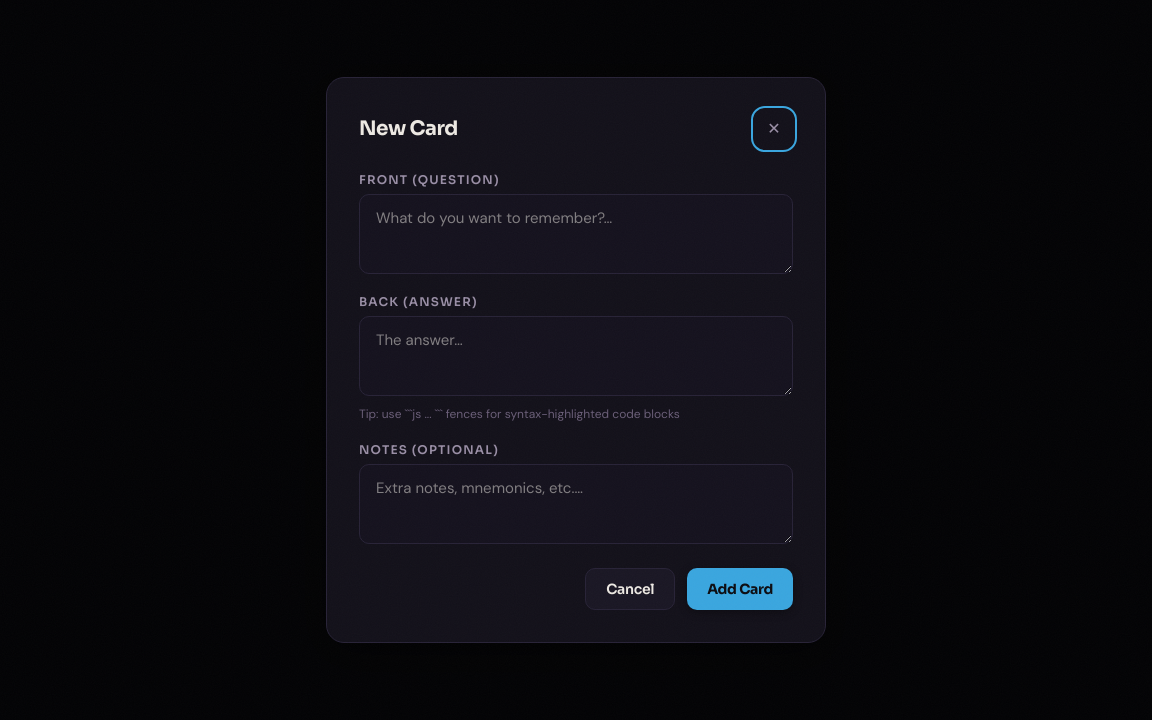
Test: CardModal › shows validation error when back is empty
The image size is (1152, 720).
Type "Q1" into the text box labelled "Front (Question)". click: (576, 234)
box: [359,194,793,274]
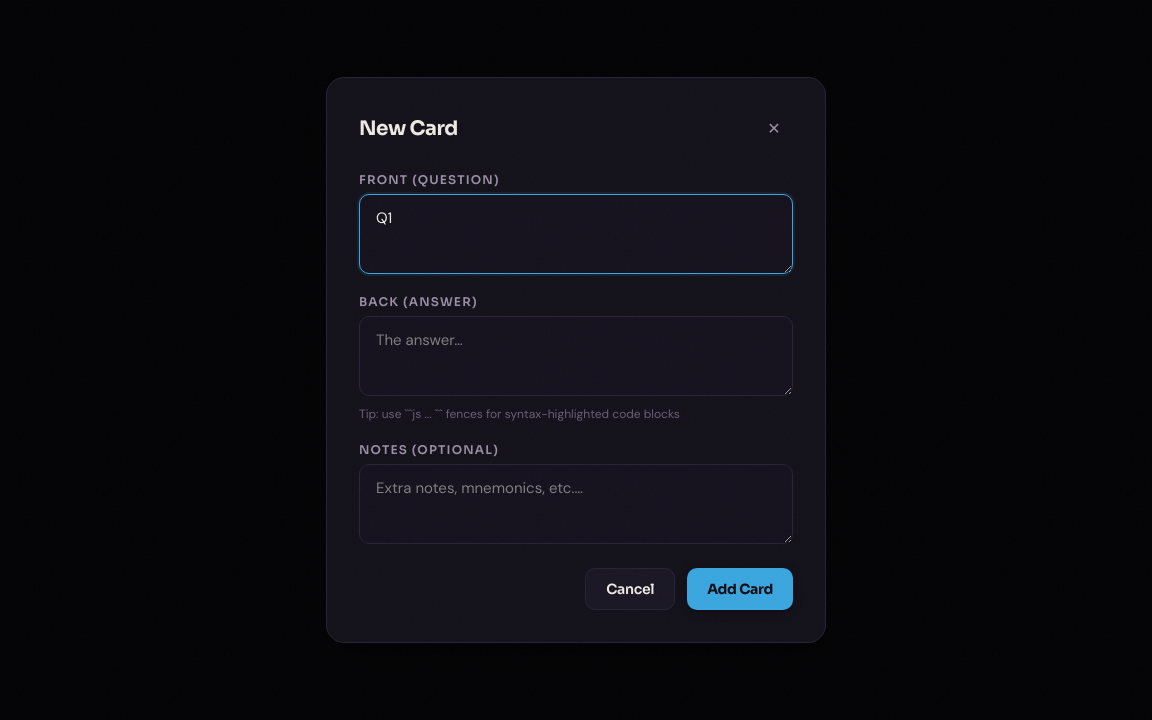
Click the button "Add Card". click: (740, 589)
box: [687,568,793,610]
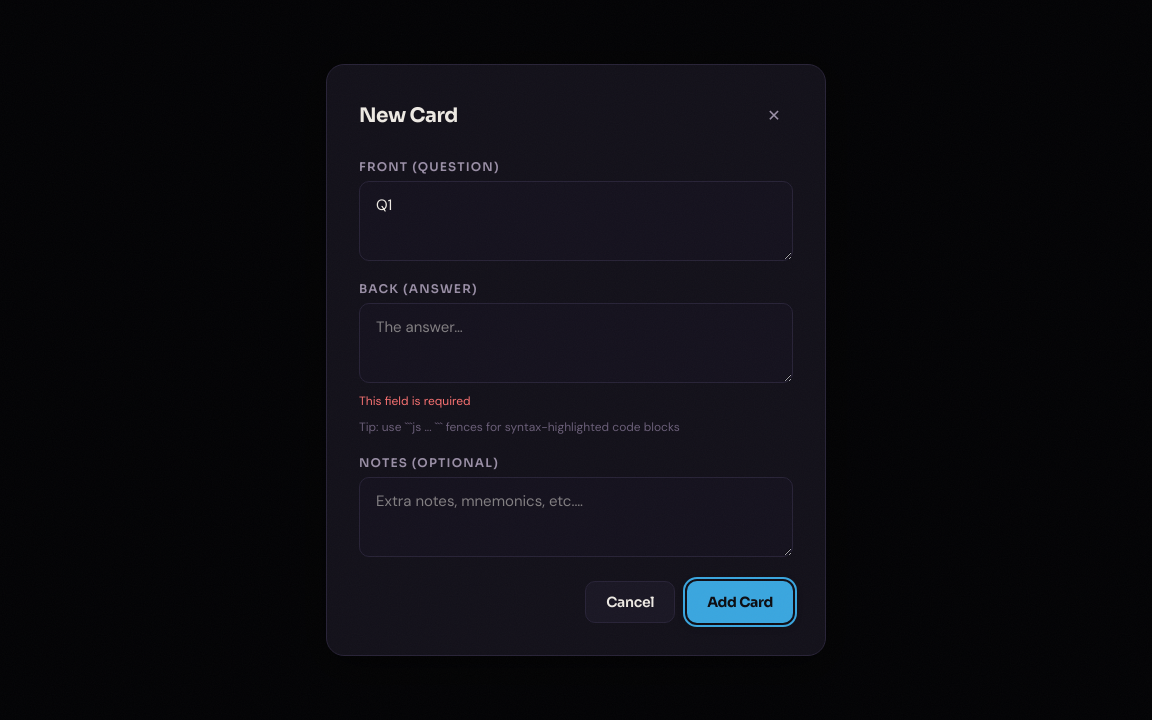
Expected: the text "This field is required" is shown, [359,393,471,409]
